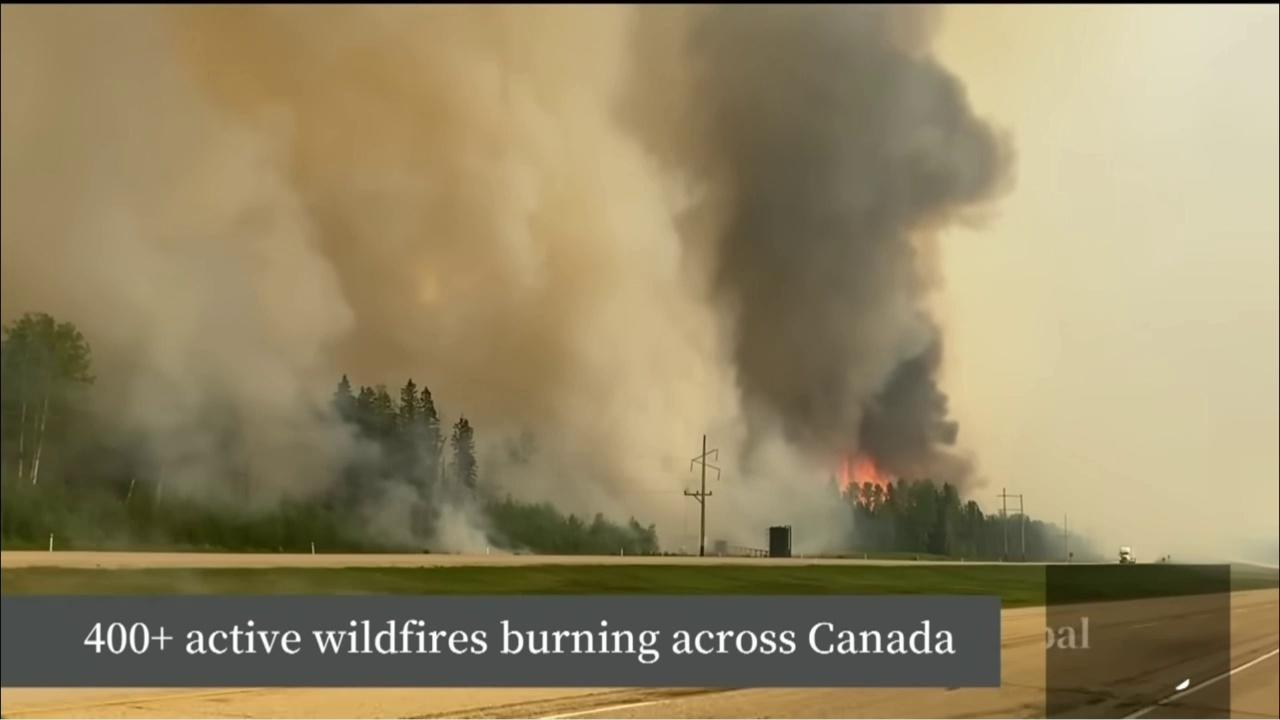fire: (829, 446, 898, 511)
smoke: (0, 4, 1028, 558)
